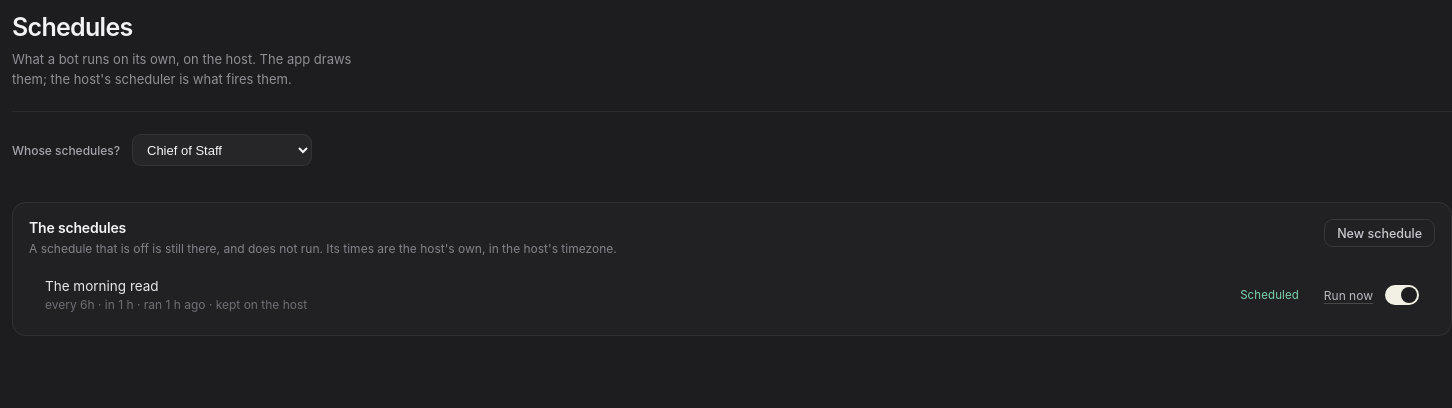
the schedules page › puts the row back when the host refuses the change
The image size is (1452, 408).
Expected: the text "The morning read" is shown, [45,278,159,294]
Click the switch named "Pause The morning read" at (1402, 295), box [1385,285,1419,305]
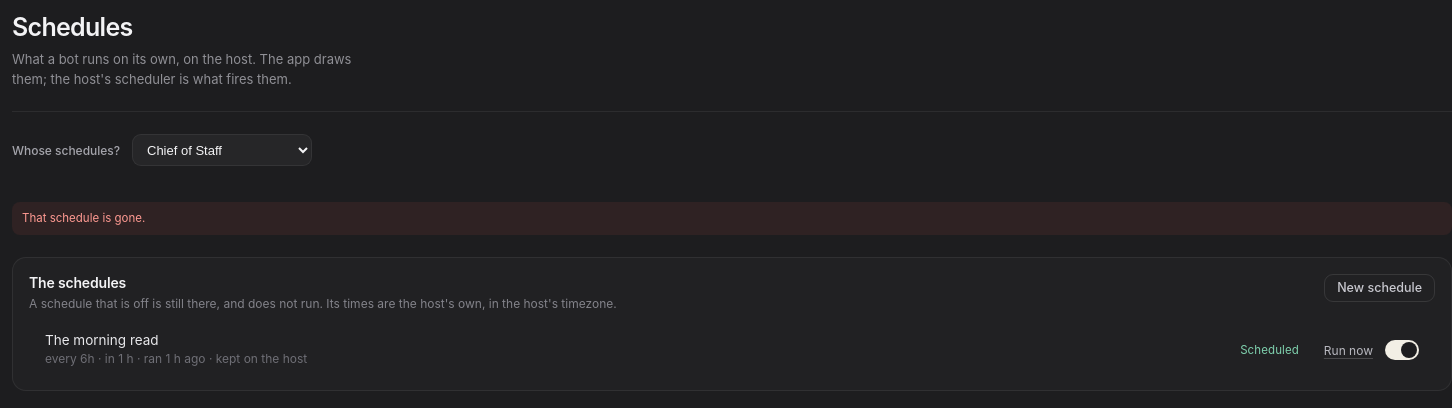
Expected: the text "Scheduled" is shown, [1240,343,1299,357]
Expected: the text "That schedule is gone." is shown, [12,202,1451,235]
